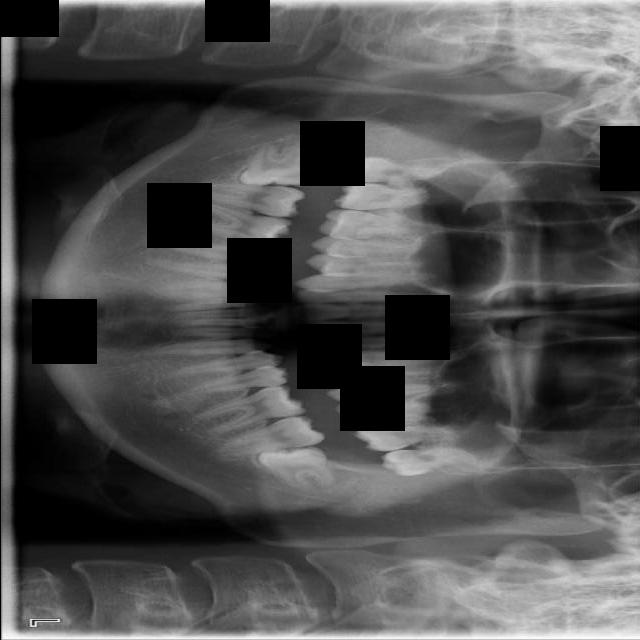3M ESPE Implant: (347, 157, 472, 183)
73: (40, 599, 82, 614)
BioHorizons Implant: (351, 415, 488, 455)
BioLife Implant: (379, 444, 504, 478)
Biomet 3i Implant: (257, 444, 335, 495)
Blue Sky Bio Implant: (212, 412, 327, 460)
Caries: (331, 176, 449, 213)
Implant: (193, 173, 306, 221)
Keystone Dental Implant: (238, 142, 310, 188)
